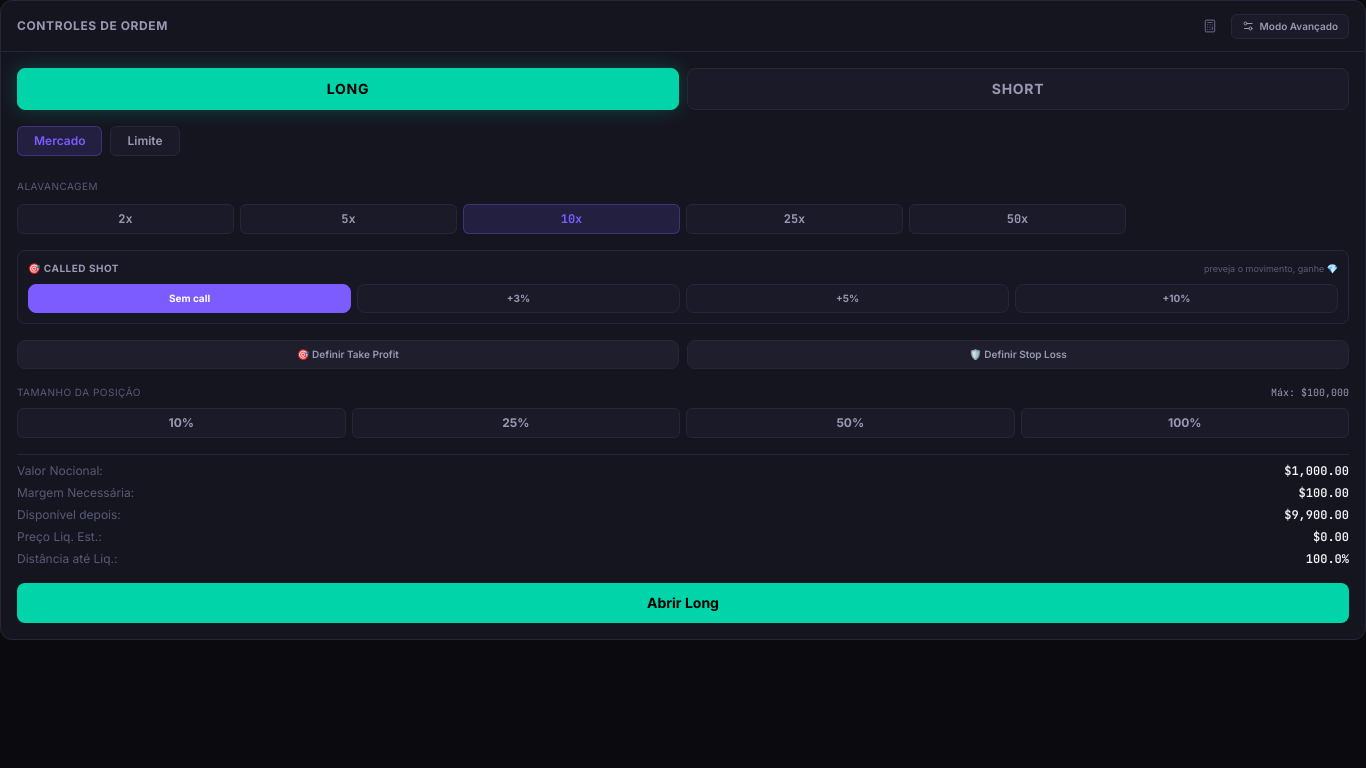
it: TradeControls pt-BR › shows the Portuguese limit price input when limit is selected
Click the button "Limite": (145, 141) [110,126,180,156]
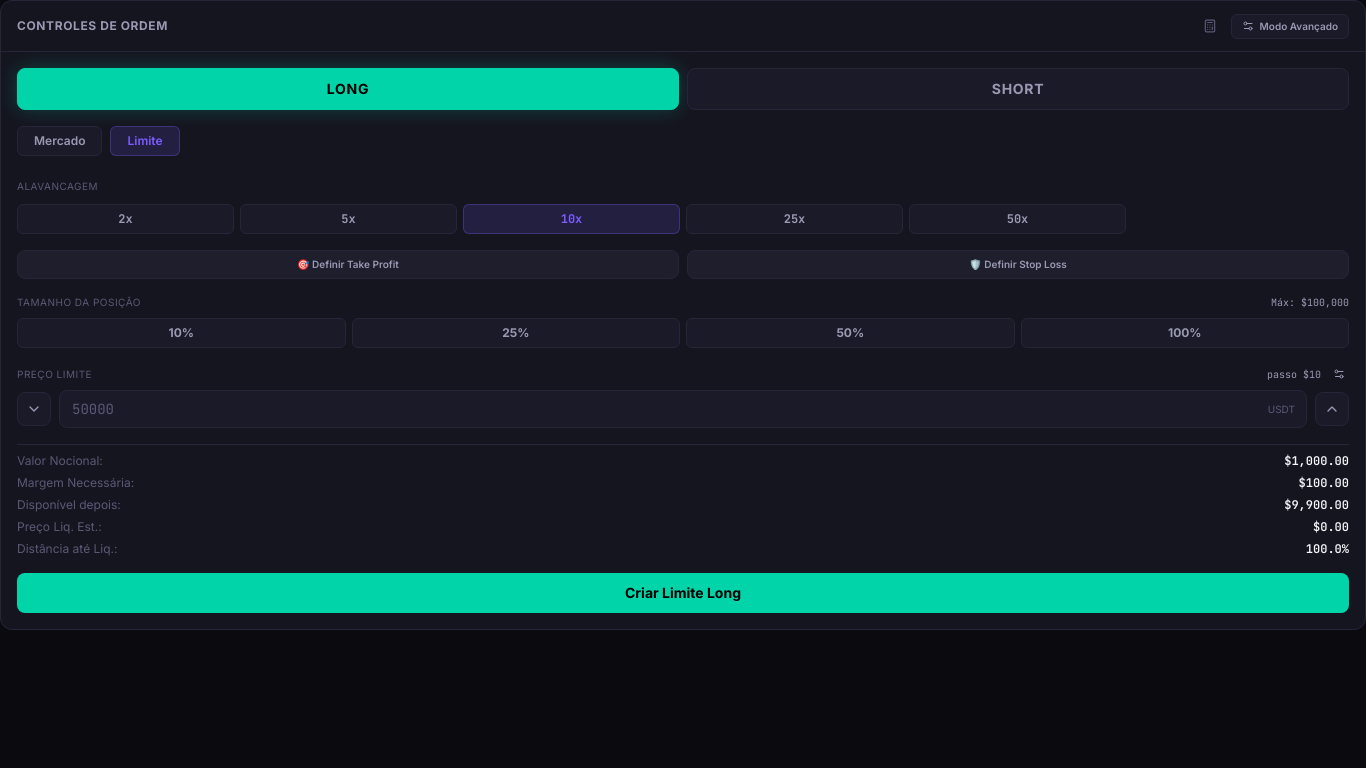
expect the text "Preço Limite" is shown: met, box [17,366,92,382]
expect the button "Criar Limite Long" is shown: met, box [17,573,1349,613]
